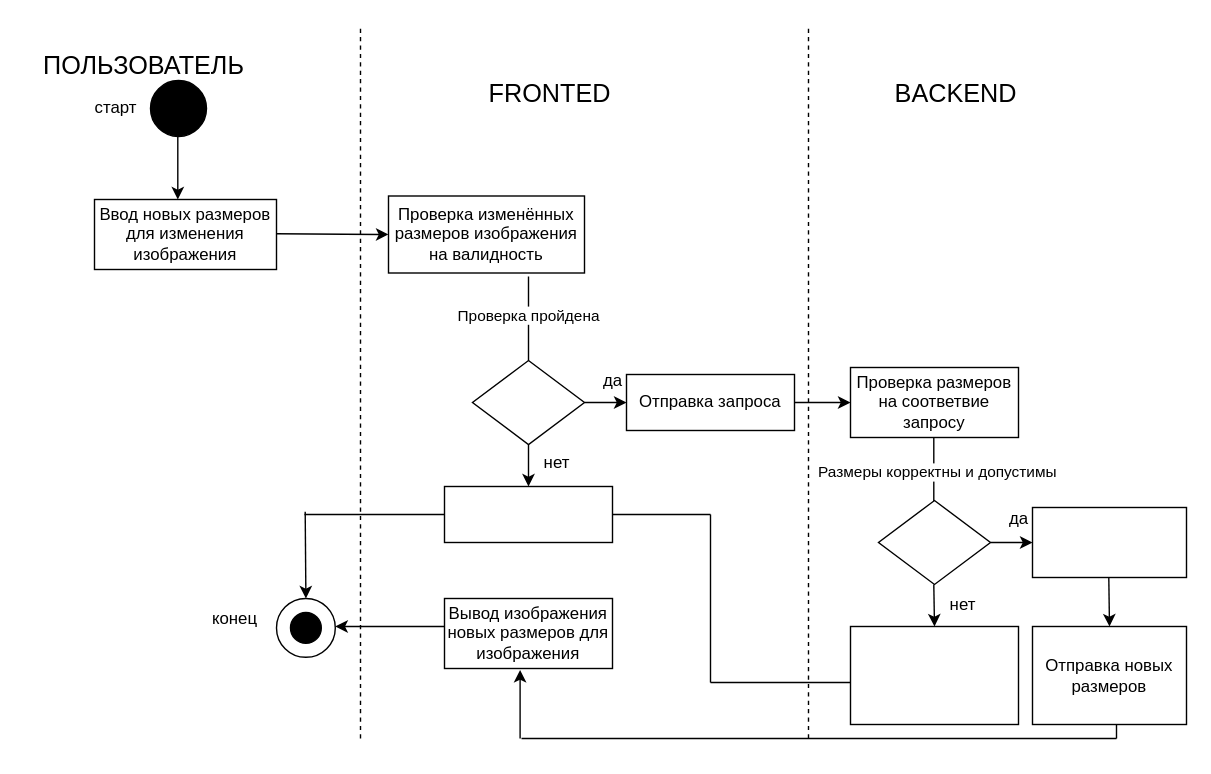
Image size: 1211x774. Some labels were removed from this diagram. Here are the shapes that lost their labels. From the top down, the centre of each, then its label:
At point 527,513: "Вывод сообщения об ошибке".
At point 1108,542: "Изменение размеров по соотвествию".
At point 933,674: "Отправка уведомления о некорректных и недопустимых размеров".
